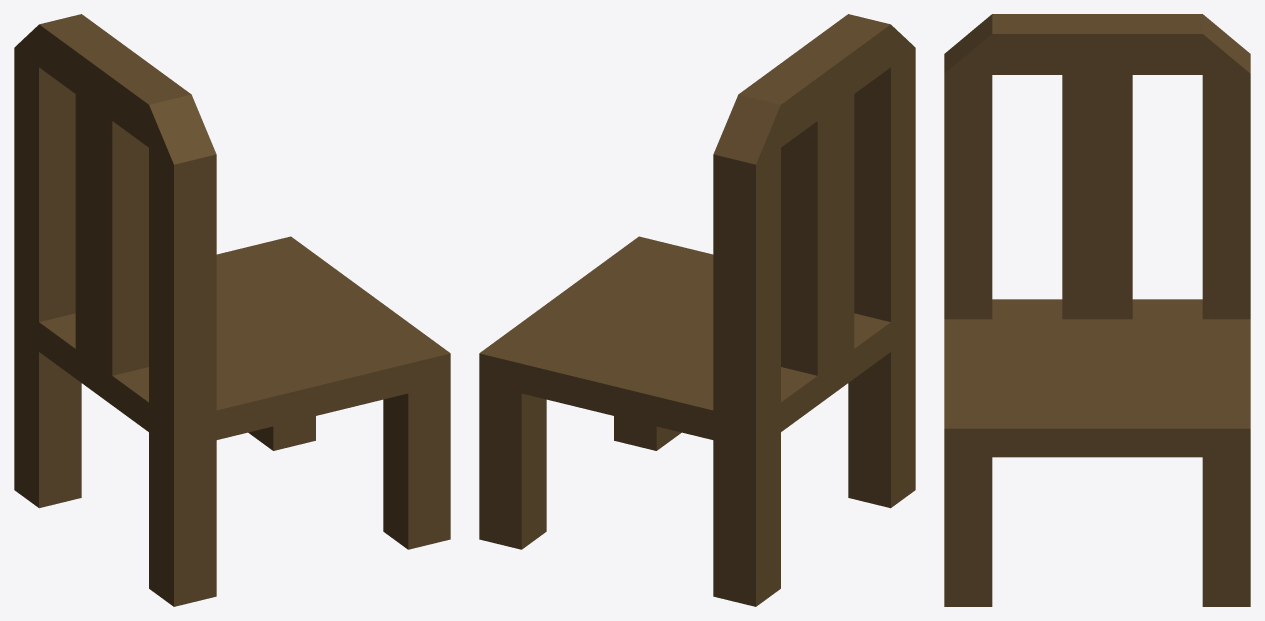
File: DiningChair.fbx
The picture shows the model from 3 angles, left to right: view 1: azimuth 30°, elevation 25°; view 2: azimuth 150°, elevation 25°; view 3: azimuth 270°, elevation 25°; orthographic projection. The views are drawn at different scales.
Visible parts, largest first — view 1: Chair; view 2: Chair; view 3: Chair.
Boxes of the visible parts, x1=… form: Chair: x1=14, y1=14, x2=450, y2=606; Chair: x1=479, y1=14, x2=915, y2=606; Chair: x1=944, y1=14, x2=1250, y2=606.
Size of the model in its own units: 0.8212 by 1.37 by 0.8212.
